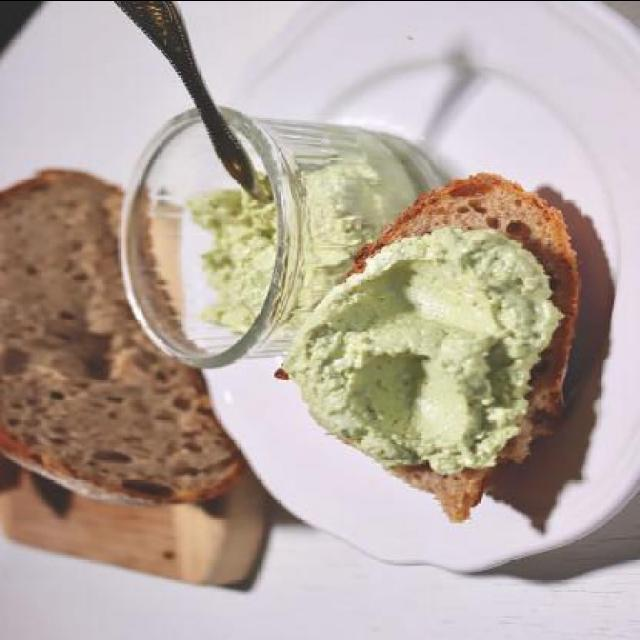Spread: (284, 223, 556, 468)
